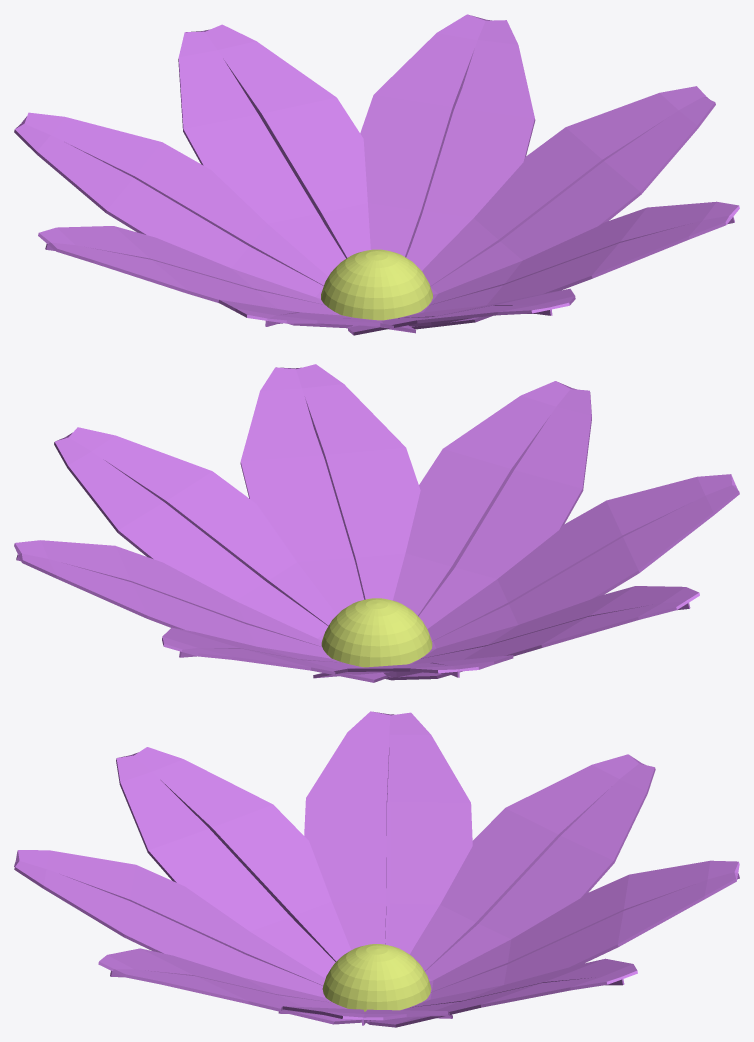
The model's file is flower.fbx.
3 views of the same model, one above another, from view 1: azimuth 30°, elevation 25°; view 2: azimuth 150°, elevation 25°; view 3: azimuth 270°, elevation 25° (orthographic). The views are drawn at different scales.
Visible parts, largest first — view 1: Plane.004; view 2: Plane.004; view 3: Plane.004.
Part boxes in pixels (x1=…): Plane.004: x1=14, y1=14, x2=739, y2=335; Plane.004: x1=14, y1=364, x2=739, y2=682; Plane.004: x1=14, y1=711, x2=739, y2=1027.
Size of the model in its own units: 389 by 84.13 by 389.
